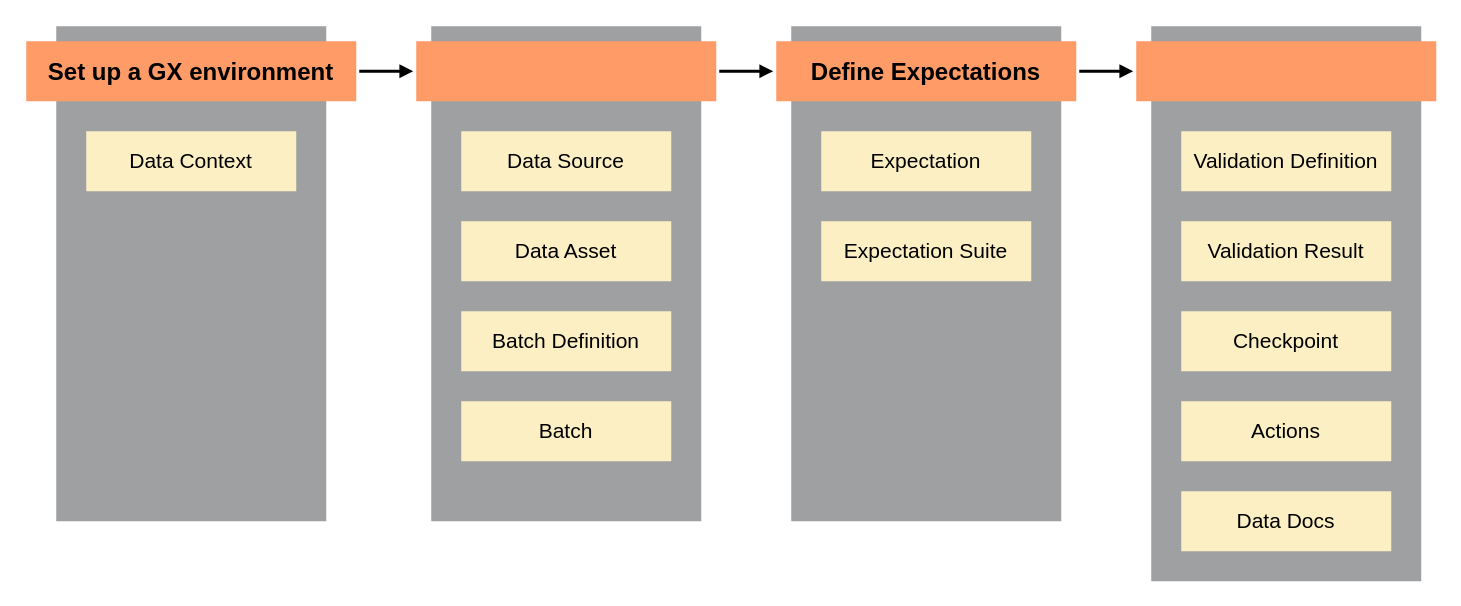
Image size: 1461x606. Some labels were removed from this diagram. The shapes that lost their labels are listed below. From the top down, each one's centre as x and y in pixels, then its label:
(x=566, y=70): Connect to data
(x=1286, y=70): Run Validations
